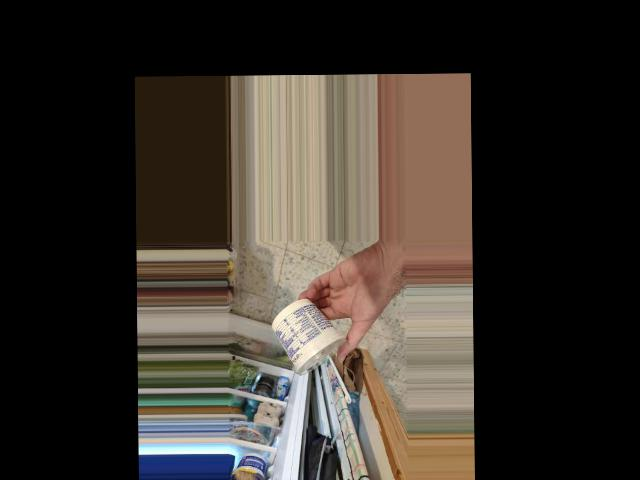cotage: (270, 296, 344, 378)
